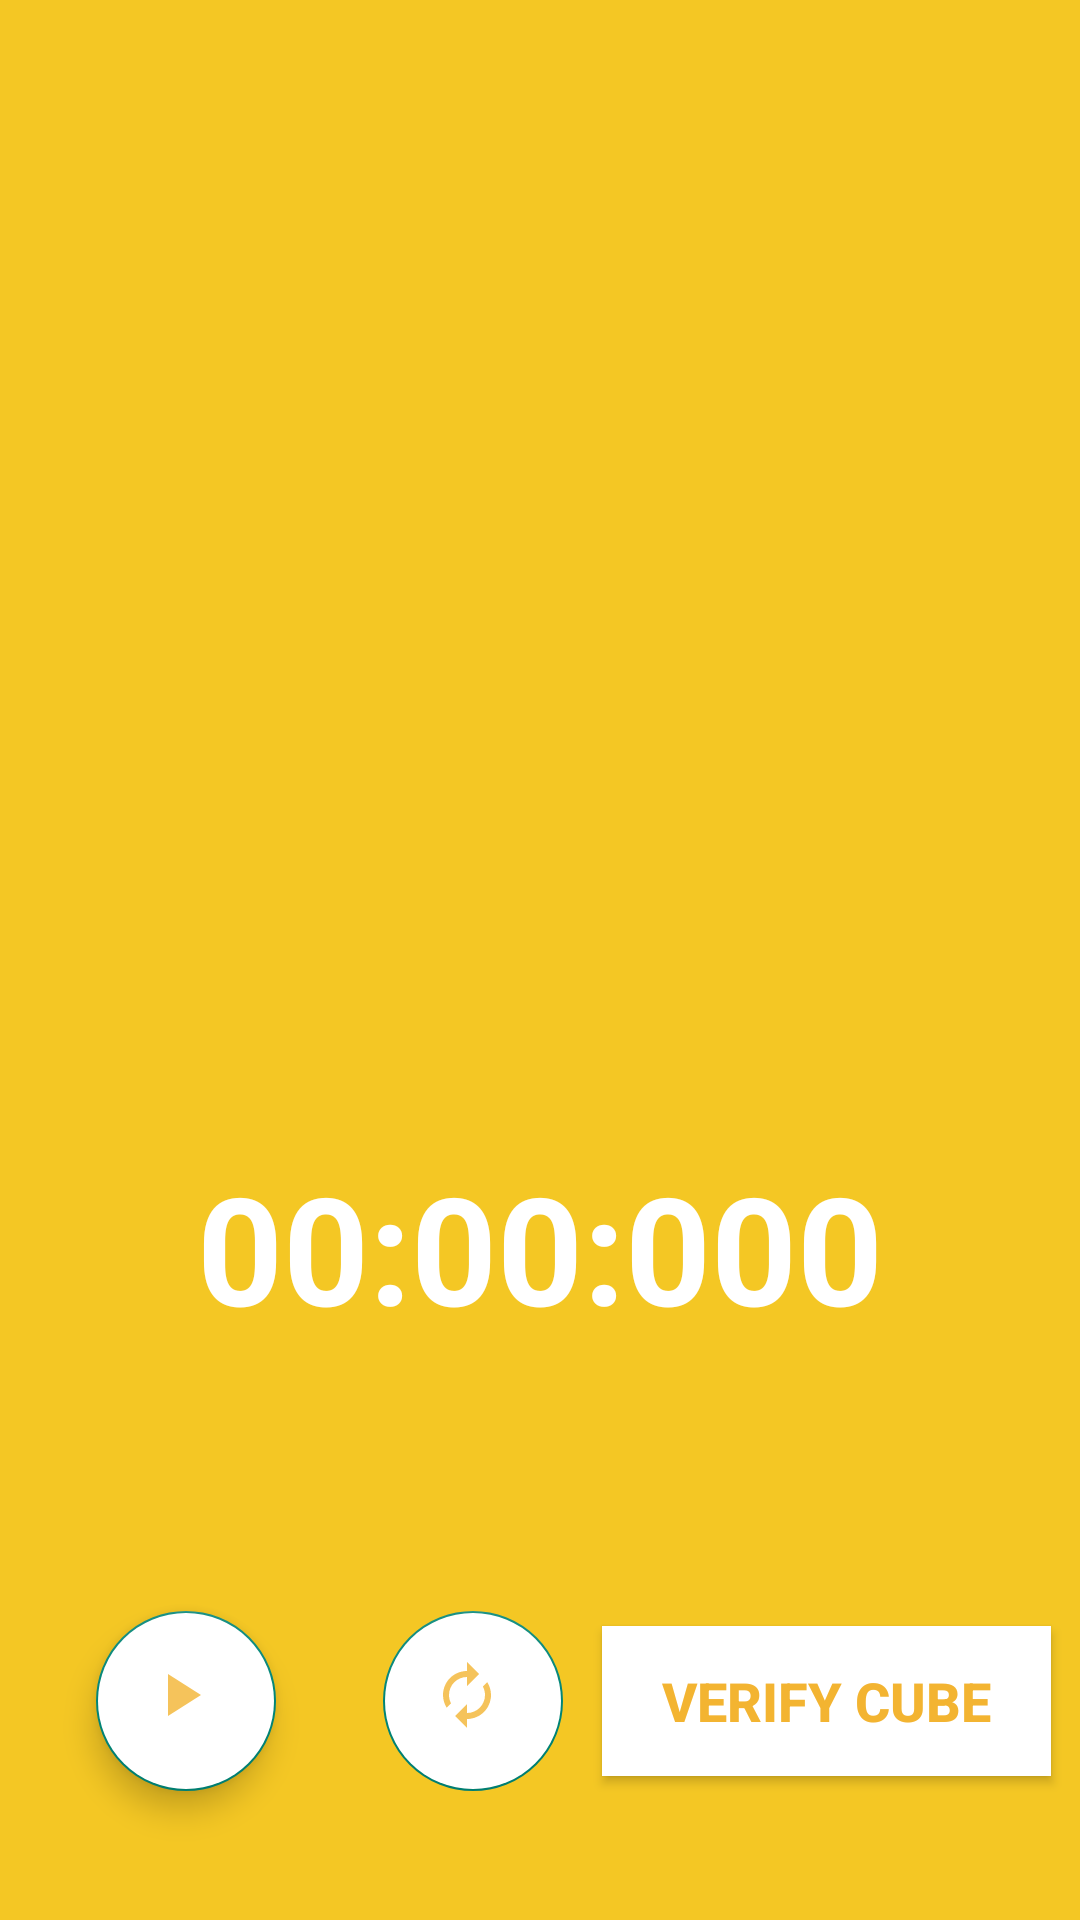

Screen size 1080×1920. Icon name, then its center in pixels as point (x, y):
Reset: point (473, 1701)
Start Timer: point (186, 1701)
